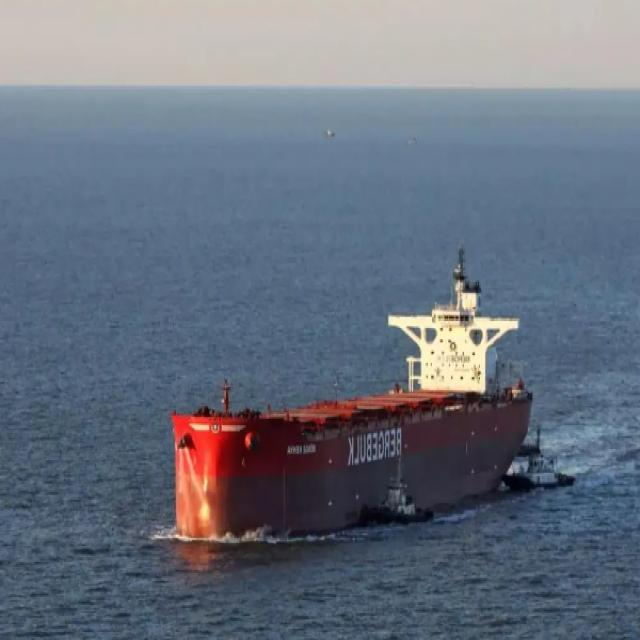buoy: (166, 240, 541, 542)
